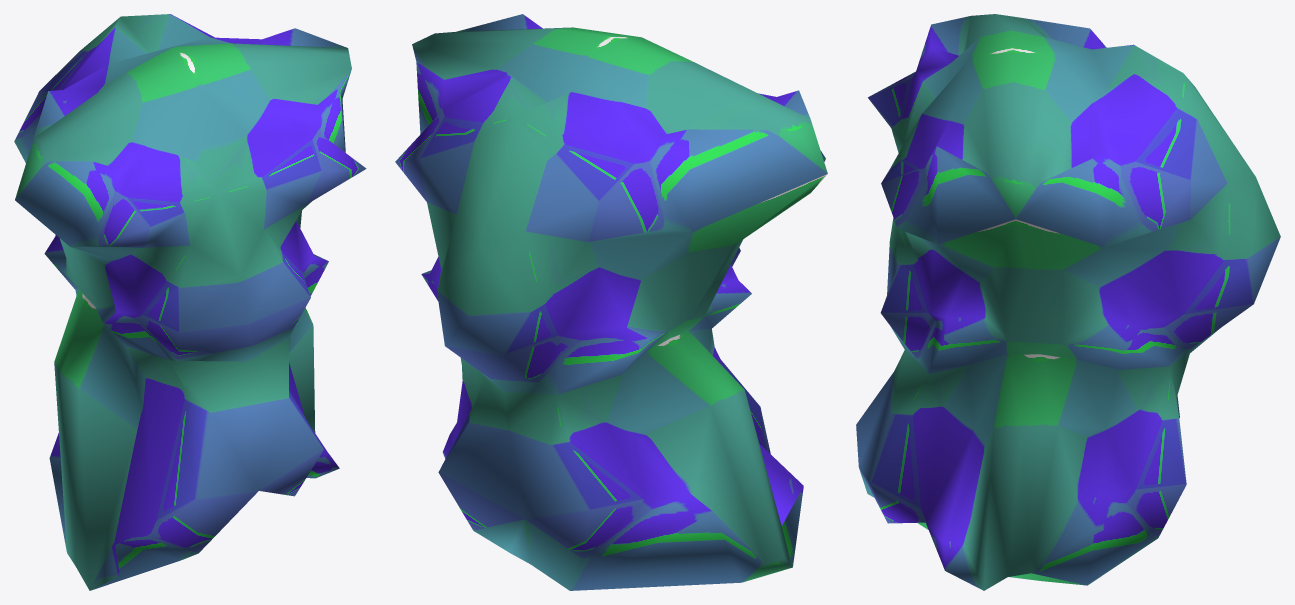
The model's file is FungiAB.fbx.
3 views of the same model, side by side, from view 1: azimuth 30°, elevation 25°; view 2: azimuth 150°, elevation 25°; view 3: azimuth 270°, elevation 25° (orthographic). The views are drawn at different scales.
Parts seen in each view (by area): view 1: Plane.001; view 2: Plane.001; view 3: Plane.001.
Boxes of the visible parts, x1,y1,x2,y2 form: Plane.001: (14,14,366,590); Plane.001: (395,14,827,590); Plane.001: (856,14,1280,590).
Bounding box in the file's own units: 4045 × 5378 × 3804.
